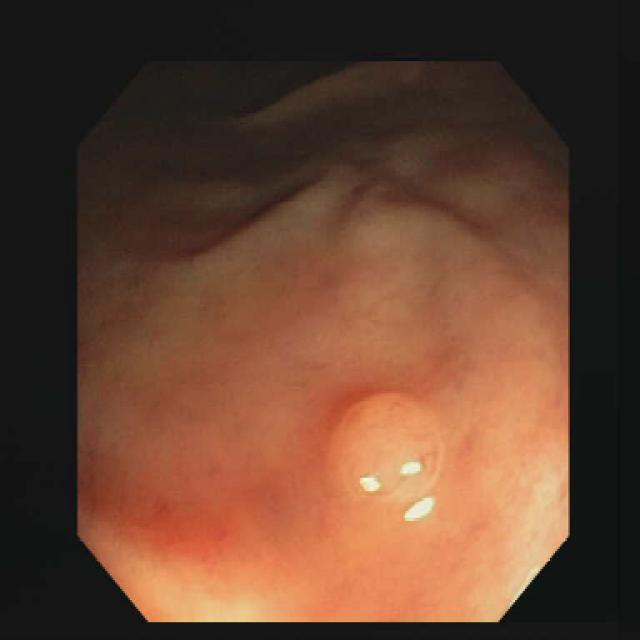tumor: (328, 387, 443, 504)
